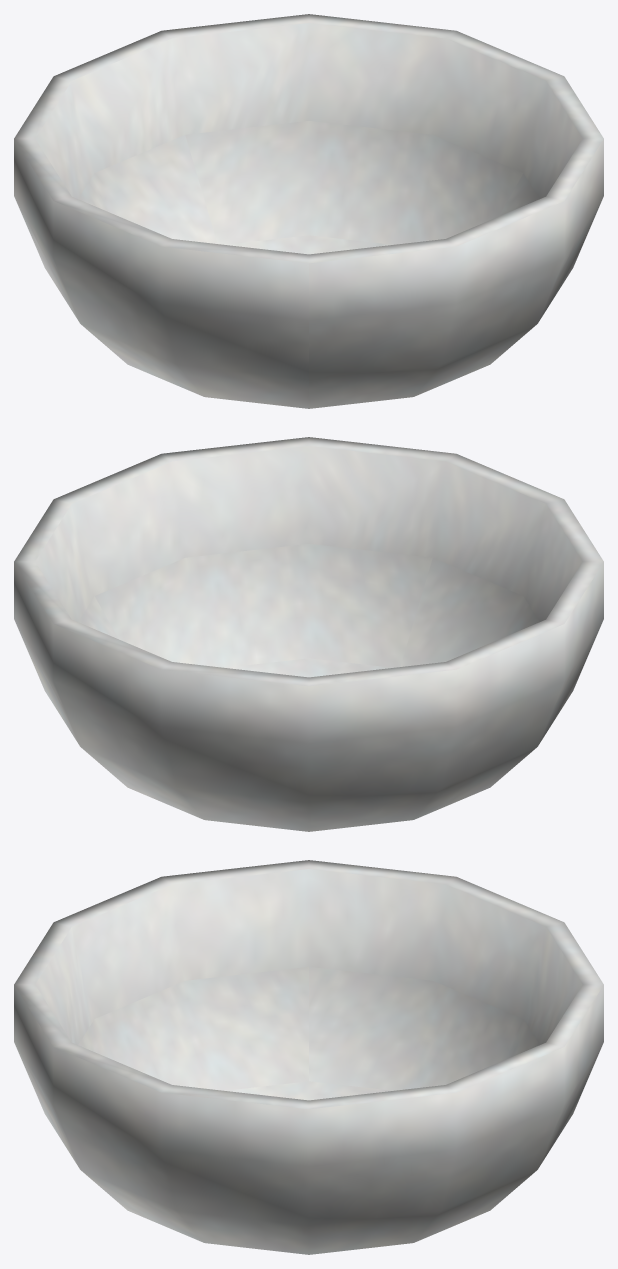
The model's file is bowl_04.glb.
The picture shows the model from 3 angles, top to bottom: view 1: azimuth 30°, elevation 25°; view 2: azimuth 150°, elevation 25°; view 3: azimuth 270°, elevation 25°; orthographic projection.
Visible parts, largest first — view 1: bowl.04; view 2: bowl.04; view 3: bowl.04.
Part boxes in pixels (box(x1,y1,x2,y2)): bowl.04: box(14, 14, 603, 408); bowl.04: box(14, 437, 603, 831); bowl.04: box(14, 860, 603, 1254).
Bounding box in the file's own units: 0.2772 × 0.1087 × 0.2772.
1 material, 1 textured.
